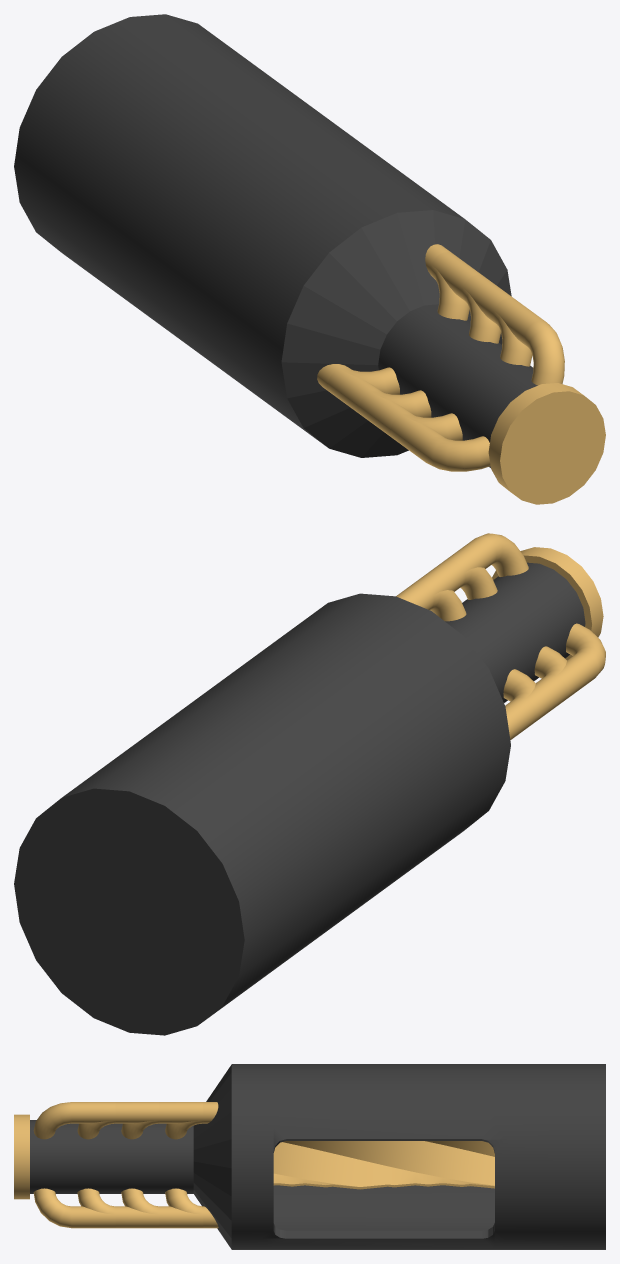
Rendered from Gun.fbx.
3 views of the same model, one above another, from view 1: azimuth 30°, elevation 25°; view 2: azimuth 150°, elevation 25°; view 3: azimuth 270°, elevation 25° (orthographic). The views are drawn at different scales.
Visible parts, largest first — view 1: pCylinder28; view 2: pCylinder28; view 3: pCylinder28.
Part boxes in pixels (x1,y1,x2,y2): pCylinder28: (14, 14, 605, 504); pCylinder28: (14, 533, 605, 1035); pCylinder28: (14, 1064, 605, 1249).
Bounding box in the file's own units: 100 × 100 × 316.
